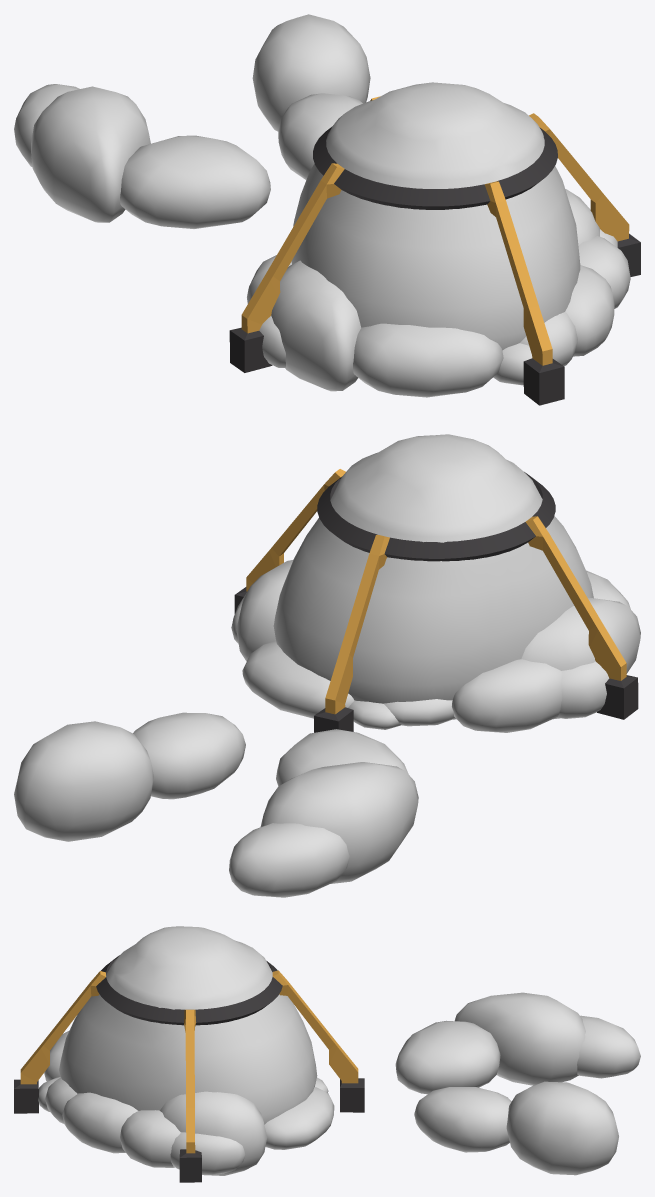
File: Monster1.fbx
The picture shows the model from 3 angles, top to bottom: view 1: azimuth 30°, elevation 25°; view 2: azimuth 150°, elevation 25°; view 3: azimuth 270°, elevation 25°; orthographic projection. The views are drawn at different scales.
Parts seen in each view (by area): view 1: Base, Holder, Part1, Part2, Part4, Part5, Part3; view 2: Base, Holder, Part4, Part1, Part3, Part5, Part2; view 3: Base, Holder, Part4, Part1, Part2, Part5, Part3.
Part boxes in pixels (bbox=[...]): Base: bbox=[247, 82, 630, 397]; Holder: bbox=[229, 96, 640, 405]; Part1: bbox=[31, 86, 150, 222]; Part2: bbox=[120, 135, 270, 228]; Part4: bbox=[252, 14, 370, 131]; Part5: bbox=[278, 93, 362, 179]; Part3: bbox=[14, 84, 79, 166]; Base: bbox=[231, 434, 640, 732]; Holder: bbox=[234, 469, 638, 732]; Part4: bbox=[14, 721, 153, 841]; Part1: bbox=[260, 762, 418, 883]; Part3: bbox=[229, 823, 349, 897]; Part5: bbox=[133, 712, 245, 799]; Part2: bbox=[276, 729, 408, 786]; Base: bbox=[38, 926, 334, 1175]; Holder: bbox=[14, 955, 364, 1182]; Part4: bbox=[506, 1081, 618, 1175]; Part1: bbox=[454, 992, 585, 1085]; Part2: bbox=[395, 1020, 500, 1094]; Part5: bbox=[414, 1087, 511, 1152]; Part3: bbox=[577, 1015, 640, 1078].
Bounding box in the file's own units: 52.39 × 31.54 × 93.64.
